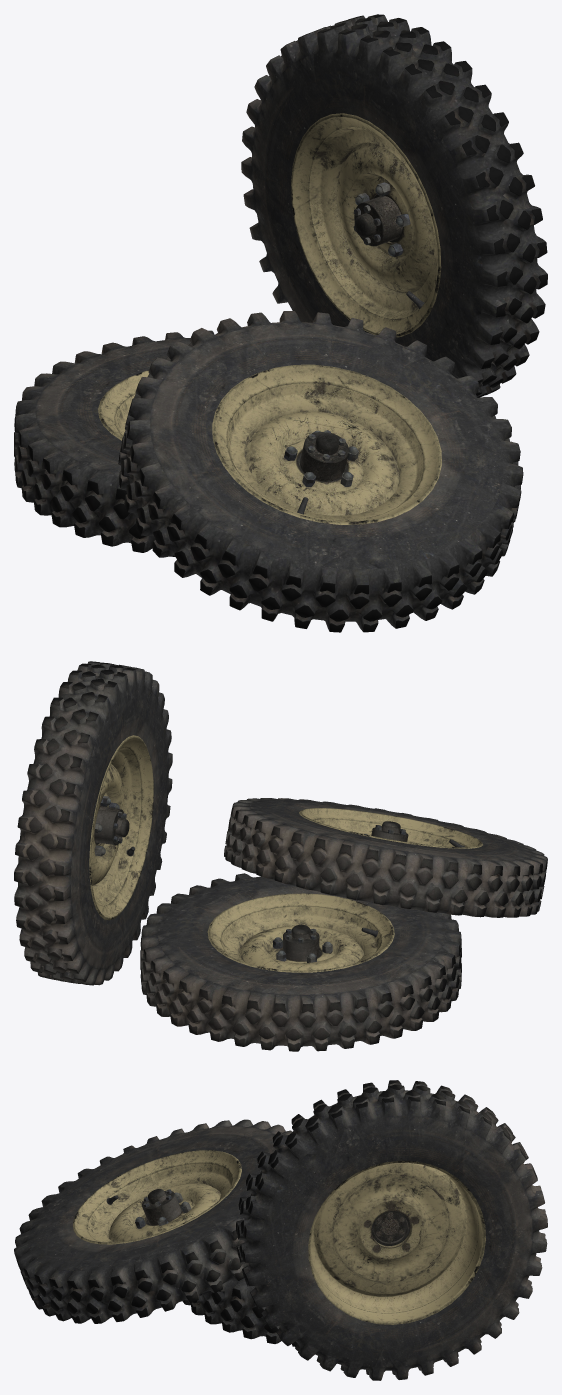
The picture shows the model from 3 angles, top to bottom: view 1: azimuth 30°, elevation 25°; view 2: azimuth 150°, elevation 25°; view 3: azimuth 270°, elevation 25°; orthographic projection. The views are drawn at different scales.
Parts seen in each view (by area): view 1: YA-111_Material #57_0; view 2: YA-111_Material #57_0; view 3: YA-111_Material #57_0.
Part boxes in pixels (x1,y1,x2,y2): YA-111_Material #57_0: (14,14,547,632); YA-111_Material #57_0: (14,661,547,1051); YA-111_Material #57_0: (14,1080,547,1380).
Bounding box in the file's own units: 350 × 272 × 464.
1 material, 1 textured.
